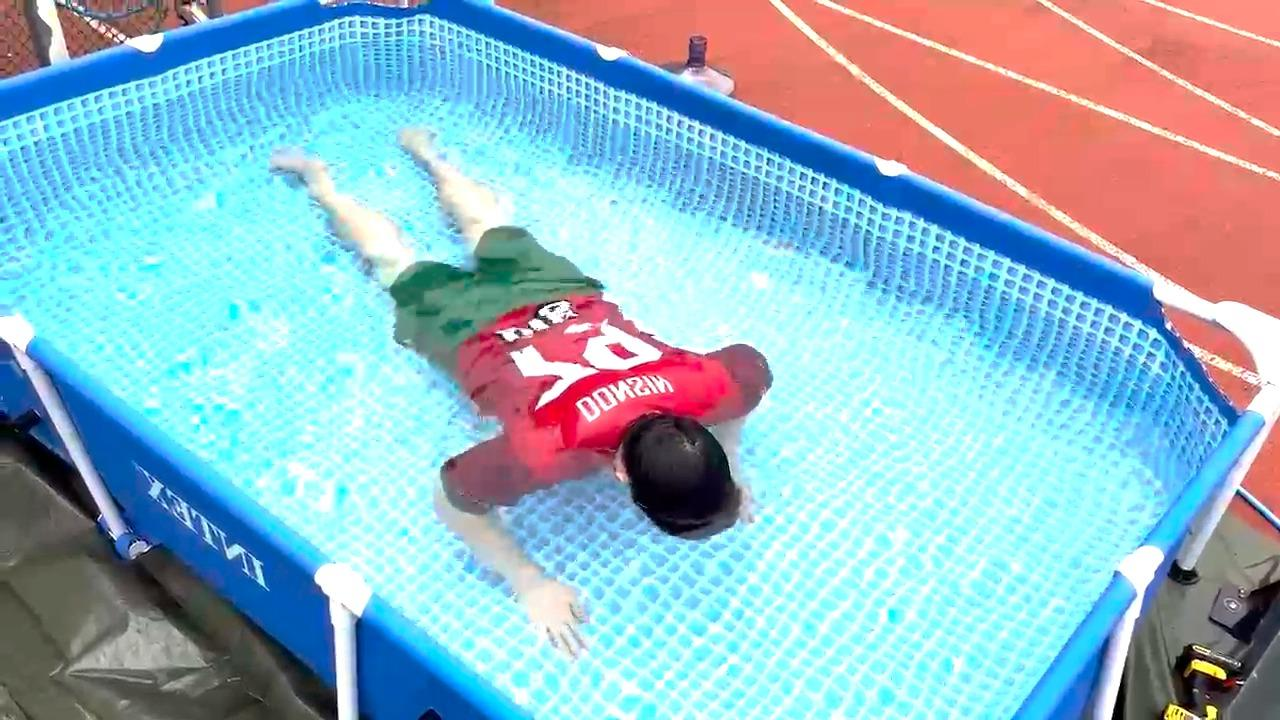Drowning: (235, 120, 808, 645)
